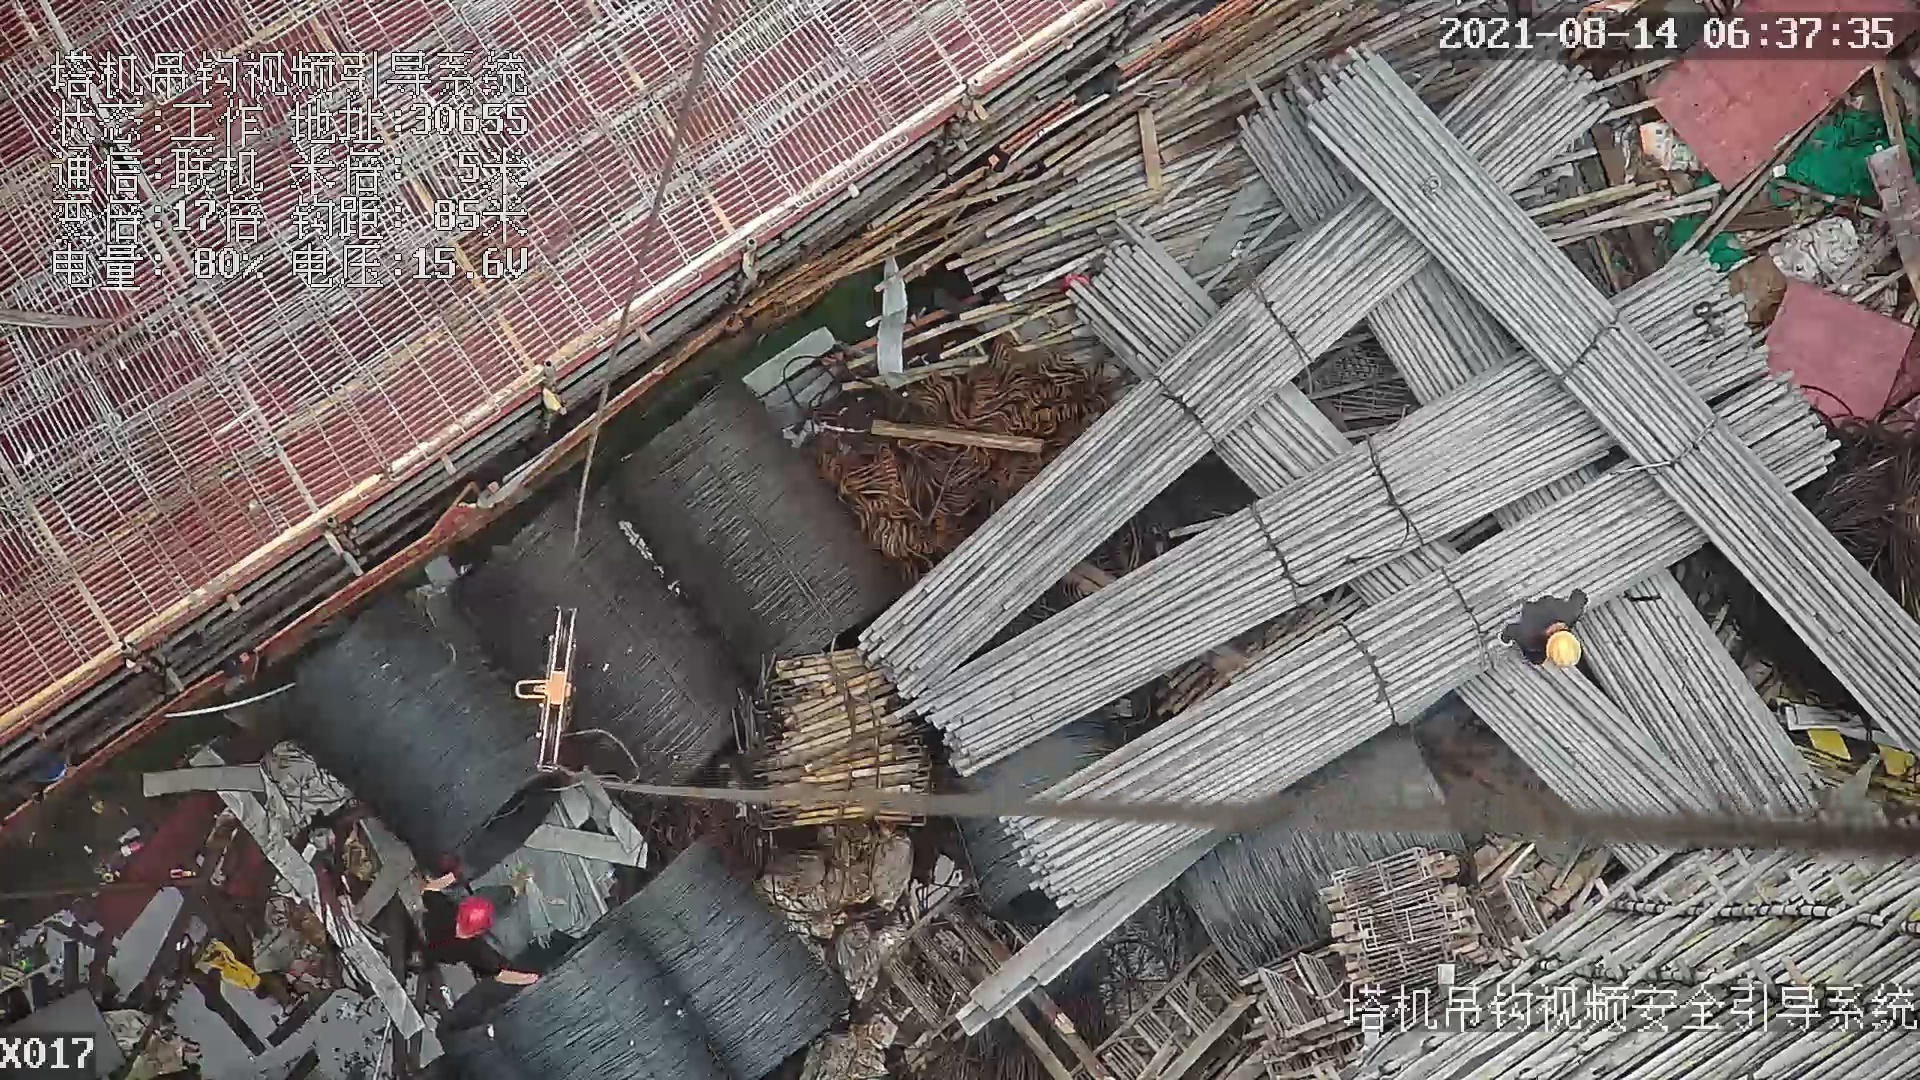helmet: (456, 894, 501, 945), (1549, 627, 1587, 677)
hook: (510, 603, 587, 778)
person: (419, 860, 544, 991), (1499, 585, 1596, 677)
scaffold: (936, 40, 1908, 819), (738, 637, 951, 839)
